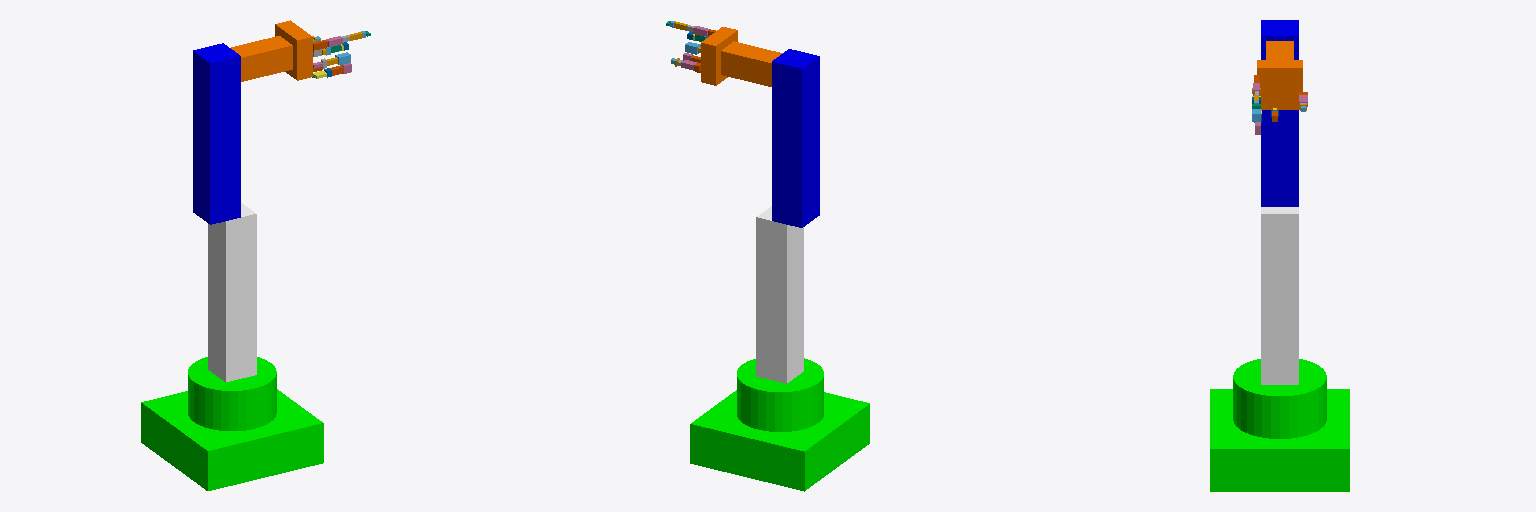
--- Render facts (derived) ---
3 views of the same robot in one strip: view 1: azimuth 30°, elevation 25°; view 2: azimuth 150°, elevation 25°; view 3: azimuth 270°, elevation 25° (orthographic).
Robot: robot — 34 links, 33 joints (30 revolute, 1 continuous, 2 fixed); root link base_link; default pose: all joints at 0.
Links seen in each view (by area): view 1: base_link, arm_link, support_link, wrist_link, palm_link; view 2: base_link, arm_link, support_link, wrist_link, palm_link; view 3: base_link, support_link, arm_link, palm_link, wrist_link.
Link boxes in pixels (left/top/right/bottom): base_link: left=141, top=357, right=323, bottom=490; arm_link: left=193, top=43, right=240, bottom=224; support_link: left=208, top=203, right=256, bottom=381; wrist_link: left=231, top=36, right=292, bottom=81; palm_link: left=275, top=20, right=312, bottom=80; base_link: left=690, top=358, right=869, bottom=491; arm_link: left=772, top=49, right=819, bottom=227; support_link: left=756, top=206, right=803, bottom=383; wrist_link: left=721, top=41, right=782, bottom=86; palm_link: left=701, top=27, right=737, bottom=85; base_link: left=1210, top=359, right=1349, bottom=491; support_link: left=1261, top=207, right=1298, bottom=384; arm_link: left=1261, top=20, right=1298, bottom=206; palm_link: left=1257, top=60, right=1302, bottom=109; wrist_link: left=1266, top=41, right=1293, bottom=59.
Bounding box of the posed robot: 1.19 × 0.75 × 2.52 m (x, y, z).
Geometry: primitives only (box / cylinder / sphere), no mesh files.

The robot description file, URDF, robot "robot":
<?xml version='1.0' encoding='utf-8'?>
<robot name="robot">
  <link name="base_link">
    <visual>
      <origin xyz="0 0 0.125" rpy="0 0 0" />
      <geometry>
        <box size="0.75 0.75 0.25" />
      </geometry>
      <material name="green" />
    </visual>
    <visual>
      <origin xyz="0 0 0.375" rpy="0 0 0" />
      <geometry>
        <cylinder length="0.25" radius="0.25" />
      </geometry>
      <material name="green">
        <color rgba="0 1 0 1" />
      </material>
    </visual>
    <collision>
      <geometry>
        <box size="0.75 0.75 0.5" />
      </geometry>
    </collision>
    <inertial>
      <mass value="0.5" />
      <inertia ixx="0.034" ixy="0.0" ixz="0.0" iyy="0.034" iyz="0.0" izz="0.034" />
    </inertial>
  </link>
  <link name="support_link">
    <visual>
      <origin xyz="0 0 0.5" rpy="0 0 0" />
      <geometry>
        <box size="0.2 0.2 1" />
      </geometry>
      <material name="white">
        <color rgba="1 1 1 1" />
      </material>
    </visual>
    <collision>
      <geometry>
        <box size="0.2 0.2 1" />
      </geometry>
    </collision>
    <inertial>
      <mass value="0.1" />
      <inertia ixx="0.01" ixy="0.0" ixz="0.0" iyy="0.01" iyz="0.0" izz="0.01" />
    </inertial>
  </link>
  <joint name="support_joint" type="continuous">
    <origin xyz="0 0 0.5" rpy="0 0 0" />
    <parent link="base_link" />
    <child link="support_link" />
    <axis xyz="0 0 1" />
  </joint>
  <link name="arm_link">
    <visual>
      <origin xyz="0 0 0.5" rpy="0 0 0" />
      <geometry>
        <box size="0.2 0.2 1" />
      </geometry>
      <material name="blue">
        <color rgba="0 0 1 1" />
      </material>
    </visual>
    <collision>
      <geometry>
        <box size="0.2 0.2 1" />
      </geometry>
    </collision>
    <inertial>
      <mass value="0.1" />
      <inertia ixx="0.01" ixy="0.0" ixz="0.0" iyy="0.01" iyz="0.0" izz="0.01" />
    </inertial>
  </link>
  <joint name="arm_joint" type="revolute">
    <origin xyz="-0.1 0 1" rpy="0 0 0" />
    <parent link="support_link" />
    <child link="arm_link" />
    <axis xyz="0 1 0" />
    <limit lower="-3.14" upper="3.14" effort="1.0" velocity="1.0" />
  </joint>
  <link name="wrist_link">
    <visual>
      <origin xyz="0 0 0.25" rpy="0 0 0" />
      <geometry>
        <box size="0.15 0.15 0.5" />
      </geometry>
      <material name="orange">
        <color rgba="1 0.5 0 1" />
      </material>
    </visual>
    <collision>
      <geometry>
        <box size="0.15 0.15 0.5" />
      </geometry>
    </collision>
    <inertial>
      <mass value="0.1" />
      <inertia ixx="0.01" ixy="0.0" ixz="0.0" iyy="0.01" iyz="0.0" izz="0.01" />
    </inertial>
  </link>
  <joint name="wrist_joint" type="fixed">
    <origin xyz="0 0 0.9" rpy="0 1.571 0" />
    <parent link="arm_link" />
    <child link="wrist_link" />
  </joint>
  <link name="palm_link">
    <visual>
      <origin xyz="0 0 0.05" rpy="0 0 0" />
      <geometry>
        <box size="0.25 0.25 0.1" />
      </geometry>
      <material name="orange" />
    </visual>
    <collision>
      <geometry>
        <box size="0.25 0.25 0.1" />
      </geometry>
    </collision>
    <inertial>
      <mass value="0.1" />
      <inertia ixx="0.01" ixy="0.0" ixz="0.0" iyy="0.01" iyz="0.0" izz="0.01" />
    </inertial>
  </link>
  <joint name="palm_joint" type="fixed">
    <origin xyz="0 0 0.45" rpy="0 0 0" />
    <parent link="wrist_link" />
    <child link="palm_link" />
  </joint>
  <link name="finger_link_0_0">
    <visual>
      <origin xyz="0 0 0.0465" rpy="0 0 0" />
      <geometry>
        <box size="0.038 0.026 0.093" />
      </geometry>
    </visual>
    <collision>
      <geometry>
        <box size="0.038 0.026 0.093" />
      </geometry>
    </collision>
    <inertial>
      <mass value="0.028" />
      <inertia ixx="0.0" iyy="0.0" izz="0.0" ixy="0" ixz="0" iyz="0" />
    </inertial>
  </link>
  <joint name="finger_joint_palm_link_to_finger_link_0_0" type="revolute">
    <origin xyz="-0.062 -0.125 0.1" rpy="0 0 0" />
    <parent link="palm_link" />
    <child link="finger_link_0_0" />
    <axis xyz="1.0 0.0 0.0" />
    <limit lower="-3.142" upper="3.142" effort="10" velocity="10" />
  </joint>
  <link name="finger_link_0_1">
    <visual>
      <origin xyz="0 0 0.046" rpy="0 0 0" />
      <geometry>
        <box size="0.037 0.033 0.092" />
      </geometry>
    </visual>
    <collision>
      <geometry>
        <box size="0.037 0.033 0.092" />
      </geometry>
    </collision>
    <inertial>
      <mass value="0.034" />
      <inertia ixx="0.0" iyy="0.0" izz="0.0" ixy="0" ixz="0" iyz="0" />
    </inertial>
  </link>
  <joint name="finger_joint_finger_link_0_0_to_finger_link_0_1" type="revolute">
    <origin xyz="0.0 0.0 0.093" rpy="0 0 0" />
    <parent link="finger_link_0_0" />
    <child link="finger_link_0_1" />
    <axis xyz="0.0 1.0 0.0" />
    <limit lower="-3.142" upper="3.142" effort="10" velocity="10" />
  </joint>
  <link name="finger_link_0_2">
    <visual>
      <origin xyz="0 0 0.026" rpy="0 0 0" />
      <geometry>
        <box size="0.029 0.021 0.052" />
      </geometry>
    </visual>
    <collision>
      <geometry>
        <box size="0.029 0.021 0.052" />
      </geometry>
    </collision>
    <inertial>
      <mass value="0.01" />
      <inertia ixx="0.0" iyy="0.0" izz="0.0" ixy="0" ixz="0" iyz="0" />
    </inertial>
  </link>
  <joint name="finger_joint_finger_link_0_1_to_finger_link_0_2" type="revolute">
    <origin xyz="0.0 0.0 0.092" rpy="0 0 0" />
    <parent link="finger_link_0_1" />
    <child link="finger_link_0_2" />
    <axis xyz="0.0 1.0 0.0" />
    <limit lower="-3.142" upper="3.142" effort="10" velocity="10" />
  </joint>
  <link name="finger_link_0_3">
    <visual>
      <origin xyz="0 0 0.0405" rpy="0 0 0" />
      <geometry>
        <box size="0.031 0.022 0.081" />
      </geometry>
    </visual>
    <collision>
      <geometry>
        <box size="0.031 0.022 0.081" />
      </geometry>
    </collision>
    <inertial>
      <mass value="0.017" />
      <inertia ixx="0.0" iyy="0.0" izz="0.0" ixy="0" ixz="0" iyz="0" />
    </inertial>
  </link>
  <joint name="finger_joint_finger_link_0_2_to_finger_link_0_3" type="revolute">
    <origin xyz="0.0 0.0 0.052" rpy="0 0 0" />
    <parent link="finger_link_0_2" />
    <child link="finger_link_0_3" />
    <axis xyz="0.0 1.0 0.0" />
    <limit lower="-3.142" upper="3.142" effort="10" velocity="10" />
  </joint>
  <link name="finger_link_0_4">
    <visual>
      <origin xyz="0 0 0.01" rpy="0 0 0" />
      <geometry>
        <box size="0.031 0.026 0.02" />
      </geometry>
    </visual>
    <collision>
      <geometry>
        <box size="0.031 0.026 0.02" />
      </geometry>
    </collision>
    <inertial>
      <mass value="0.005" />
      <inertia ixx="0.0" iyy="0.0" izz="0.0" ixy="0" ixz="0" iyz="0" />
    </inertial>
  </link>
  <joint name="finger_joint_finger_link_0_3_to_finger_link_0_4" type="revolute">
    <origin xyz="0.0 0.0 0.081" rpy="0 0 0" />
    <parent link="finger_link_0_3" />
    <child link="finger_link_0_4" />
    <axis xyz="0.0 1.0 0.0" />
    <limit lower="-3.142" upper="3.142" effort="10" velocity="10" />
  </joint>
  <link name="finger_link_0_5">
    <visual>
      <origin xyz="0 0 0.013" rpy="0 0 0" />
      <geometry>
        <box size="0.013 0.044 0.026" />
      </geometry>
    </visual>
    <collision>
      <geometry>
        <box size="0.013 0.044 0.026" />
      </geometry>
    </collision>
    <inertial>
      <mass value="0.004" />
      <inertia ixx="0.0" iyy="0.0" izz="0.0" ixy="0" ixz="0" iyz="0" />
    </inertial>
  </link>
  <joint name="finger_joint_finger_link_0_4_to_finger_link_0_5" type="revolute">
    <origin xyz="0.0 0.0 0.02" rpy="0 0 0" />
    <parent link="finger_link_0_4" />
    <child link="finger_link_0_5" />
    <axis xyz="0.0 1.0 0.0" />
    <limit lower="-3.142" upper="3.142" effort="10" velocity="10" />
  </joint>
  <link name="finger_link_1_0">
    <visual>
      <origin xyz="0 0 0.0135" rpy="0 0 0" />
      <geometry>
        <box size="0.026 0.019 0.027" />
      </geometry>
    </visual>
    <collision>
      <geometry>
        <box size="0.026 0.019 0.027" />
      </geometry>
    </collision>
    <inertial>
      <mass value="0.004" />
      <inertia ixx="0.0" iyy="0.0" izz="0.0" ixy="0" ixz="0" iyz="0" />
    </inertial>
  </link>
  <joint name="finger_joint_palm_link_to_finger_link_1_0" type="revolute">
    <origin xyz="0.125 -0.026 0.1" rpy="0 0 0" />
    <parent link="palm_link" />
    <child link="finger_link_1_0" />
    <axis xyz="0.0 1.0 0.0" />
    <limit lower="-3.142" upper="3.142" effort="10" velocity="10" />
  </joint>
  <link name="finger_link_1_1">
    <visual>
      <origin xyz="0 0 0.009" rpy="0 0 0" />
      <geometry>
        <box size="0.033 0.04 0.018" />
      </geometry>
    </visual>
    <collision>
      <geometry>
        <box size="0.033 0.04 0.018" />
      </geometry>
    </collision>
    <inertial>
      <mass value="0.007" />
      <inertia ixx="0.0" iyy="0.0" izz="0.0" ixy="0" ixz="0" iyz="0" />
    </inertial>
  </link>
  <joint name="finger_joint_finger_link_1_0_to_finger_link_1_1" type="revolute">
    <origin xyz="0.0 0.0 0.027" rpy="0 0 0" />
    <parent link="finger_link_1_0" />
    <child link="finger_link_1_1" />
    <axis xyz="1.0 0.0 0.0" />
    <limit lower="-3.142" upper="3.142" effort="10" velocity="10" />
  </joint>
  <link name="finger_link_1_2">
    <visual>
      <origin xyz="0 0 0.0345" rpy="0 0 0" />
      <geometry>
        <box size="0.035 0.03 0.069" />
      </geometry>
    </visual>
    <collision>
      <geometry>
        <box size="0.035 0.03 0.069" />
      </geometry>
    </collision>
    <inertial>
      <mass value="0.022" />
      <inertia ixx="0.0" iyy="0.0" izz="0.0" ixy="0" ixz="0" iyz="0" />
    </inertial>
  </link>
  <joint name="finger_joint_finger_link_1_1_to_finger_link_1_2" type="revolute">
    <origin xyz="0.0 0.0 0.018" rpy="0 0 0" />
    <parent link="finger_link_1_1" />
    <child link="finger_link_1_2" />
    <axis xyz="1.0 0.0 0.0" />
    <limit lower="-3.142" upper="3.142" effort="10" velocity="10" />
  </joint>
  <link name="finger_link_2_0">
    <visual>
      <origin xyz="0 0 0.0295" rpy="0 0 0" />
      <geometry>
        <box size="0.02 0.028 0.059" />
      </geometry>
    </visual>
    <collision>
      <geometry>
        <box size="0.02 0.028 0.059" />
      </geometry>
    </collision>
    <inertial>
      <mass value="0.01" />
      <inertia ixx="0.0" iyy="0.0" izz="0.0" ixy="0" ixz="0" iyz="0" />
    </inertial>
  </link>
  <joint name="finger_joint_palm_link_to_finger_link_2_0" type="revolute">
    <origin xyz="0.058 -0.125 0.1" rpy="0 0 0" />
    <parent link="palm_link" />
    <child link="finger_link_2_0" />
    <axis xyz="1.0 0.0 0.0" />
    <limit lower="-3.142" upper="3.142" effort="10" velocity="10" />
  </joint>
  <link name="finger_link_2_1">
    <visual>
      <origin xyz="0 0 0.013" rpy="0 0 0" />
      <geometry>
        <box size="0.049 0.027 0.026" />
      </geometry>
    </visual>
    <collision>
      <geometry>
        <box size="0.049 0.027 0.026" />
      </geometry>
    </collision>
    <inertial>
      <mass value="0.01" />
      <inertia ixx="0.0" iyy="0.0" izz="0.0" ixy="0" ixz="0" iyz="0" />
    </inertial>
  </link>
  <joint name="finger_joint_finger_link_2_0_to_finger_link_2_1" type="revolute">
    <origin xyz="0.0 0.0 0.059" rpy="0 0 0" />
    <parent link="finger_link_2_0" />
    <child link="finger_link_2_1" />
    <axis xyz="0.0 1.0 0.0" />
    <limit lower="-3.142" upper="3.142" effort="10" velocity="10" />
  </joint>
  <link name="finger_link_2_2">
    <visual>
      <origin xyz="0 0 0.037" rpy="0 0 0" />
      <geometry>
        <box size="0.029 0.024 0.074" />
      </geometry>
    </visual>
    <collision>
      <geometry>
        <box size="0.029 0.024 0.074" />
      </geometry>
    </collision>
    <inertial>
      <mass value="0.015" />
      <inertia ixx="0.0" iyy="0.0" izz="0.0" ixy="0" ixz="0" iyz="0" />
    </inertial>
  </link>
  <joint name="finger_joint_finger_link_2_1_to_finger_link_2_2" type="revolute">
    <origin xyz="0.0 0.0 0.026" rpy="0 0 0" />
    <parent link="finger_link_2_1" />
    <child link="finger_link_2_2" />
    <axis xyz="0.0 1.0 0.0" />
    <limit lower="-3.142" upper="3.142" effort="10" velocity="10" />
  </joint>
  <link name="finger_link_2_3">
    <visual>
      <origin xyz="0 0 0.039" rpy="0 0 0" />
      <geometry>
        <box size="0.047 0.044 0.078" />
      </geometry>
    </visual>
    <collision>
      <geometry>
        <box size="0.047 0.044 0.078" />
      </geometry>
    </collision>
    <inertial>
      <mass value="0.048" />
      <inertia ixx="0.0" iyy="0.0" izz="0.0" ixy="0" ixz="0" iyz="0" />
    </inertial>
  </link>
  <joint name="finger_joint_finger_link_2_2_to_finger_link_2_3" type="revolute">
    <origin xyz="0.0 0.0 0.074" rpy="0 0 0" />
    <parent link="finger_link_2_2" />
    <child link="finger_link_2_3" />
    <axis xyz="1.0 0.0 0.0" />
    <limit lower="-3.142" upper="3.142" effort="10" velocity="10" />
  </joint>
  <link name="finger_link_3_0">
    <visual>
      <origin xyz="0 0 0.0075" rpy="0 0 0" />
      <geometry>
        <box size="0.014 0.011 0.015" />
      </geometry>
    </visual>
    <collision>
      <geometry>
        <box size="0.014 0.011 0.015" />
      </geometry>
    </collision>
    <inertial>
      <mass value="0.001" />
      <inertia ixx="0.0" iyy="0.0" izz="0.0" ixy="0" ixz="0" iyz="0" />
    </inertial>
  </link>
  <joint name="finger_joint_palm_link_to_finger_link_3_0" type="revolute">
    <origin xyz="0.125 -0.118 0.1" rpy="0 0 0" />
    <parent link="palm_link" />
    <child link="finger_link_3_0" />
    <axis xyz="0.0 1.0 0.0" />
    <limit lower="-3.142" upper="3.142" effort="10" velocity="10" />
  </joint>
  <link name="finger_link_3_1">
    <visual>
      <origin xyz="0 0 0.035" rpy="0 0 0" />
      <geometry>
        <box size="0.019 0.045 0.07" />
      </geometry>
    </visual>
    <collision>
      <geometry>
        <box size="0.019 0.045 0.07" />
      </geometry>
    </collision>
    <inertial>
      <mass value="0.018" />
      <inertia ixx="0.0" iyy="0.0" izz="0.0" ixy="0" ixz="0" iyz="0" />
    </inertial>
  </link>
  <joint name="finger_joint_finger_link_3_0_to_finger_link_3_1" type="revolute">
    <origin xyz="0.0 0.0 0.015" rpy="0 0 0" />
    <parent link="finger_link_3_0" />
    <child link="finger_link_3_1" />
    <axis xyz="1.0 0.0 0.0" />
    <limit lower="-3.142" upper="3.142" effort="10" velocity="10" />
  </joint>
  <link name="finger_link_3_2">
    <visual>
      <origin xyz="0 0 0.0165" rpy="0 0 0" />
      <geometry>
        <box size="0.036 0.039 0.033" />
      </geometry>
    </visual>
    <collision>
      <geometry>
        <box size="0.036 0.039 0.033" />
      </geometry>
    </collision>
    <inertial>
      <mass value="0.014" />
      <inertia ixx="0.0" iyy="0.0" izz="0.0" ixy="0" ixz="0" iyz="0" />
    </inertial>
  </link>
  <joint name="finger_joint_finger_link_3_1_to_finger_link_3_2" type="revolute">
    <origin xyz="0.0 0.0 0.07" rpy="0 0 0" />
    <parent link="finger_link_3_1" />
    <child link="finger_link_3_2" />
    <axis xyz="1.0 0.0 0.0" />
    <limit lower="-3.142" upper="3.142" effort="10" velocity="10" />
  </joint>
  <link name="finger_link_3_3">
    <visual>
      <origin xyz="0 0 0.0405" rpy="0 0 0" />
      <geometry>
        <box size="0.037 0.031 0.081" />
      </geometry>
    </visual>
    <collision>
      <geometry>
        <box size="0.037 0.031 0.081" />
      </geometry>
    </collision>
    <inertial>
      <mass value="0.028" />
      <inertia ixx="0.0" iyy="0.0" izz="0.0" ixy="0" ixz="0" iyz="0" />
    </inertial>
  </link>
  <joint name="finger_joint_finger_link_3_2_to_finger_link_3_3" type="revolute">
    <origin xyz="0.0 0.0 0.033" rpy="0 0 0" />
    <parent link="finger_link_3_2" />
    <child link="finger_link_3_3" />
    <axis xyz="1.0 0.0 0.0" />
    <limit lower="-3.142" upper="3.142" effort="10" velocity="10" />
  </joint>
  <link name="finger_link_3_4">
    <visual>
      <origin xyz="0 0 0.0265" rpy="0 0 0" />
      <geometry>
        <box size="0.049 0.03 0.053" />
      </geometry>
    </visual>
    <collision>
      <geometry>
        <box size="0.049 0.03 0.053" />
      </geometry>
    </collision>
    <inertial>
      <mass value="0.023" />
      <inertia ixx="0.0" iyy="0.0" izz="0.0" ixy="0" ixz="0" iyz="0" />
    </inertial>
  </link>
  <joint name="finger_joint_finger_link_3_3_to_finger_link_3_4" type="revolute">
    <origin xyz="0.0 0.0 0.081" rpy="0 0 0" />
    <parent link="finger_link_3_3" />
    <child link="finger_link_3_4" />
    <axis xyz="1.0 0.0 0.0" />
    <limit lower="-3.142" upper="3.142" effort="10" velocity="10" />
  </joint>
  <link name="finger_link_4_0">
    <visual>
      <origin xyz="0 0 0.0275" rpy="0 0 0" />
      <geometry>
        <box size="0.04 0.024 0.055" />
      </geometry>
    </visual>
    <collision>
      <geometry>
        <box size="0.04 0.024 0.055" />
      </geometry>
    </collision>
    <inertial>
      <mass value="0.016" />
      <inertia ixx="0.0" iyy="0.0" izz="0.0" ixy="0" ixz="0" iyz="0" />
    </inertial>
  </link>
  <joint name="finger_joint_palm_link_to_finger_link_4_0" type="revolute">
    <origin xyz="-0.021 -0.125 0.1" rpy="0 0 0" />
    <parent link="palm_link" />
    <child link="finger_link_4_0" />
    <axis xyz="1.0 0.0 0.0" />
    <limit lower="-3.142" upper="3.142" effort="10" velocity="10" />
  </joint>
  <link name="finger_link_4_1">
    <visual>
      <origin xyz="0 0 0.0105" rpy="0 0 0" />
      <geometry>
        <box size="0.027 0.049 0.021" />
      </geometry>
    </visual>
    <collision>
      <geometry>
        <box size="0.027 0.049 0.021" />
      </geometry>
    </collision>
    <inertial>
      <mass value="0.008" />
      <inertia ixx="0.0" iyy="0.0" izz="0.0" ixy="0" ixz="0" iyz="0" />
    </inertial>
  </link>
  <joint name="finger_joint_finger_link_4_0_to_finger_link_4_1" type="revolute">
    <origin xyz="0.0 0.0 0.055" rpy="0 0 0" />
    <parent link="finger_link_4_0" />
    <child link="finger_link_4_1" />
    <axis xyz="0.0 1.0 0.0" />
    <limit lower="-3.142" upper="3.142" effort="10" velocity="10" />
  </joint>
  <link name="finger_link_4_2">
    <visual>
      <origin xyz="0 0 0.0165" rpy="0 0 0" />
      <geometry>
        <box size="0.047 0.038 0.033" />
      </geometry>
    </visual>
    <collision>
      <geometry>
        <box size="0.047 0.038 0.033" />
      </geometry>
    </collision>
    <inertial>
      <mass value="0.018" />
      <inertia ixx="0.0" iyy="0.0" izz="0.0" ixy="0" ixz="0" iyz="0" />
    </inertial>
  </link>
  <joint name="finger_joint_finger_link_4_1_to_finger_link_4_2" type="revolute">
    <origin xyz="0.0 0.0 0.021" rpy="0 0 0" />
    <parent link="finger_link_4_1" />
    <child link="finger_link_4_2" />
    <axis xyz="1.0 0.0 0.0" />
    <limit lower="-3.142" upper="3.142" effort="10" velocity="10" />
  </joint>
  <link name="finger_link_4_3">
    <visual>
      <origin xyz="0 0 0.0315" rpy="0 0 0" />
      <geometry>
        <box size="0.039 0.028 0.063" />
      </geometry>
    </visual>
    <collision>
      <geometry>
        <box size="0.039 0.028 0.063" />
      </geometry>
    </collision>
    <inertial>
      <mass value="0.021" />
      <inertia ixx="0.0" iyy="0.0" izz="0.0" ixy="0" ixz="0" iyz="0" />
    </inertial>
  </link>
  <joint name="finger_joint_finger_link_4_2_to_finger_link_4_3" type="revolute">
    <origin xyz="0.0 0.0 0.033" rpy="0 0 0" />
    <parent link="finger_link_4_2" />
    <child link="finger_link_4_3" />
    <axis xyz="0.0 1.0 0.0" />
    <limit lower="-3.142" upper="3.142" effort="10" velocity="10" />
  </joint>
  <link name="finger_link_4_4">
    <visual>
      <origin xyz="0 0 0.0065" rpy="0 0 0" />
      <geometry>
        <box size="0.033 0.049 0.013" />
      </geometry>
    </visual>
    <collision>
      <geometry>
        <box size="0.033 0.049 0.013" />
      </geometry>
    </collision>
    <inertial>
      <mass value="0.006" />
      <inertia ixx="0.0" iyy="0.0" izz="0.0" ixy="0" ixz="0" iyz="0" />
    </inertial>
  </link>
  <joint name="finger_joint_finger_link_4_3_to_finger_link_4_4" type="revolute">
    <origin xyz="0.0 0.0 0.063" rpy="0 0 0" />
    <parent link="finger_link_4_3" />
    <child link="finger_link_4_4" />
    <axis xyz="0.0 1.0 0.0" />
    <limit lower="-3.142" upper="3.142" effort="10" velocity="10" />
  </joint>
  <link name="finger_link_4_5">
    <visual>
      <origin xyz="0 0 0.0175" rpy="0 0 0" />
      <geometry>
        <box size="0.033 0.05 0.035" />
      </geometry>
    </visual>
    <collision>
      <geometry>
        <box size="0.033 0.05 0.035" />
      </geometry>
    </collision>
    <inertial>
      <mass value="0.017" />
      <inertia ixx="0.0" iyy="0.0" izz="0.0" ixy="0" ixz="0" iyz="0" />
    </inertial>
  </link>
  <joint name="finger_joint_finger_link_4_4_to_finger_link_4_5" type="revolute">
    <origin xyz="0.0 0.0 0.013" rpy="0 0 0" />
    <parent link="finger_link_4_4" />
    <child link="finger_link_4_5" />
    <axis xyz="1.0 0.0 0.0" />
    <limit lower="-3.142" upper="3.142" effort="10" velocity="10" />
  </joint>
  <link name="finger_link_5_0">
    <visual>
      <origin xyz="0 0 0.017" rpy="0 0 0" />
      <geometry>
        <box size="0.037 0.045 0.034" />
      </geometry>
    </visual>
    <collision>
      <geometry>
        <box size="0.037 0.045 0.034" />
      </geometry>
    </collision>
    <inertial>
      <mass value="0.017" />
      <inertia ixx="0.0" iyy="0.0" izz="0.0" ixy="0" ixz="0" iyz="0" />
    </inertial>
  </link>
  <joint name="finger_joint_palm_link_to_finger_link_5_0" type="revolute">
    <origin xyz="0.035 0.125 0.1" rpy="0 0 0" />
    <parent link="palm_link" />
    <child link="finger_link_5_0" />
    <axis xyz="-1.0 0.0 0.0" />
    <limit lower="-3.142" upper="3.142" effort="10" velocity="10" />
  </joint>
  <link name="finger_link_5_1">
    <visual>
      <origin xyz="0 0 0.042" rpy="0 0 0" />
      <geometry>
        <box size="0.033 0.043 0.084" />
      </geometry>
    </visual>
    <collision>
      <geometry>
        <box size="0.033 0.043 0.084" />
      </geometry>
    </collision>
    <inertial>
      <mass value="0.036" />
      <inertia ixx="0.0" iyy="0.0" izz="0.0" ixy="0" ixz="0" iyz="0" />
    </inertial>
  </link>
  <joint name="finger_joint_finger_link_5_0_to_finger_link_5_1" type="revolute">
    <origin xyz="0.0 0.0 0.034" rpy="0 0 0" />
    <parent link="finger_link_5_0" />
    <child link="finger_link_5_1" />
    <axis xyz="0.0 1.0 0.0" />
    <limit lower="-3.142" upper="3.142" effort="10" velocity="10" />
  </joint>
  <link name="finger_link_5_2">
    <visual>
      <origin xyz="0 0 0.015" rpy="0 0 0" />
      <geometry>
        <box size="0.02 0.036 0.03" />
      </geometry>
    </visual>
    <collision>
      <geometry>
        <box size="0.02 0.036 0.03" />
      </geometry>
    </collision>
    <inertial>
      <mass value="0.006" />
      <inertia ixx="0.0" iyy="0.0" izz="0.0" ixy="0" ixz="0" iyz="0" />
    </inertial>
  </link>
  <joint name="finger_joint_finger_link_5_1_to_finger_link_5_2" type="revolute">
    <origin xyz="0.0 0.0 0.084" rpy="0 0 0" />
    <parent link="finger_link_5_1" />
    <child link="finger_link_5_2" />
    <axis xyz="0.0 1.0 0.0" />
    <limit lower="-3.142" upper="3.142" effort="10" velocity="10" />
  </joint>
  <link name="finger_link_5_3">
    <visual>
      <origin xyz="0 0 0.0065" rpy="0 0 0" />
      <geometry>
        <box size="0.038 0.042 0.013" />
      </geometry>
    </visual>
    <collision>
      <geometry>
        <box size="0.038 0.042 0.013" />
      </geometry>
    </collision>
    <inertial>
      <mass value="0.006" />
      <inertia ixx="0.0" iyy="0.0" izz="0.0" ixy="0" ixz="0" iyz="0" />
    </inertial>
  </link>
  <joint name="finger_joint_finger_link_5_2_to_finger_link_5_3" type="revolute">
    <origin xyz="0.0 0.0 0.03" rpy="0 0 0" />
    <parent link="finger_link_5_2" />
    <child link="finger_link_5_3" />
    <axis xyz="1.0 0.0 0.0" />
    <limit lower="-3.142" upper="3.142" effort="10" velocity="10" />
  </joint>
  <link name="finger_link_5_4">
    <visual>
      <origin xyz="0 0 0.015" rpy="0 0 0" />
      <geometry>
        <box size="0.024 0.03 0.03" />
      </geometry>
    </visual>
    <collision>
      <geometry>
        <box size="0.024 0.03 0.03" />
      </geometry>
    </collision>
    <inertial>
      <mass value="0.006" />
      <inertia ixx="0.0" iyy="0.0" izz="0.0" ixy="0" ixz="0" iyz="0" />
    </inertial>
  </link>
  <joint name="finger_joint_finger_link_5_3_to_finger_link_5_4" type="revolute">
    <origin xyz="0.0 0.0 0.013" rpy="0 0 0" />
    <parent link="finger_link_5_3" />
    <child link="finger_link_5_4" />
    <axis xyz="0.0 1.0 0.0" />
    <limit lower="-3.142" upper="3.142" effort="10" velocity="10" />
  </joint>
</robot>
